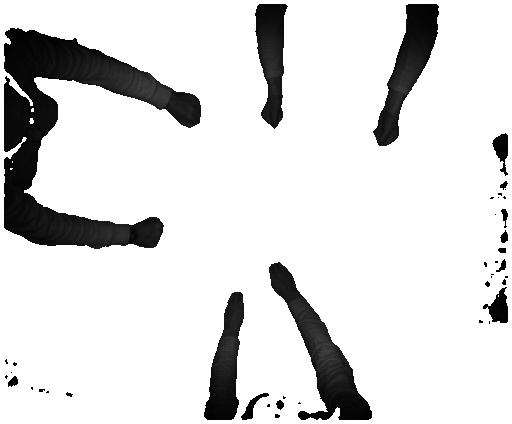fist: (172, 89, 207, 127), (256, 95, 287, 135), (368, 114, 399, 151), (137, 216, 167, 247)
hand: (264, 256, 301, 299), (216, 288, 247, 330)
